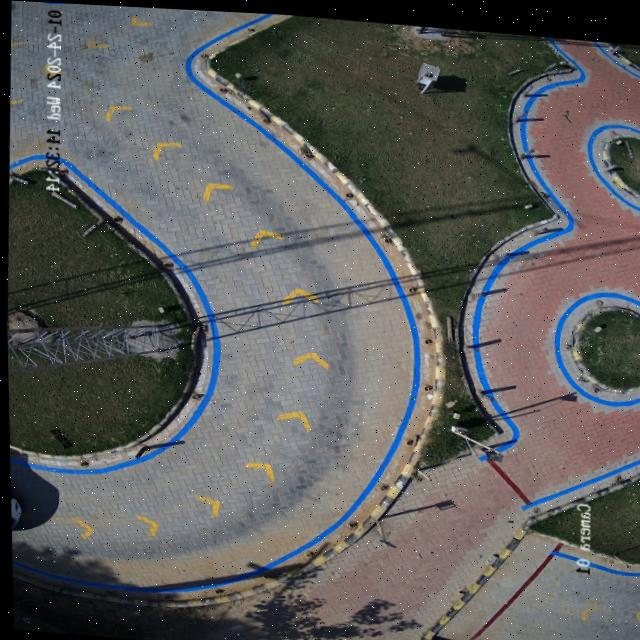car: (8, 484, 19, 530)
